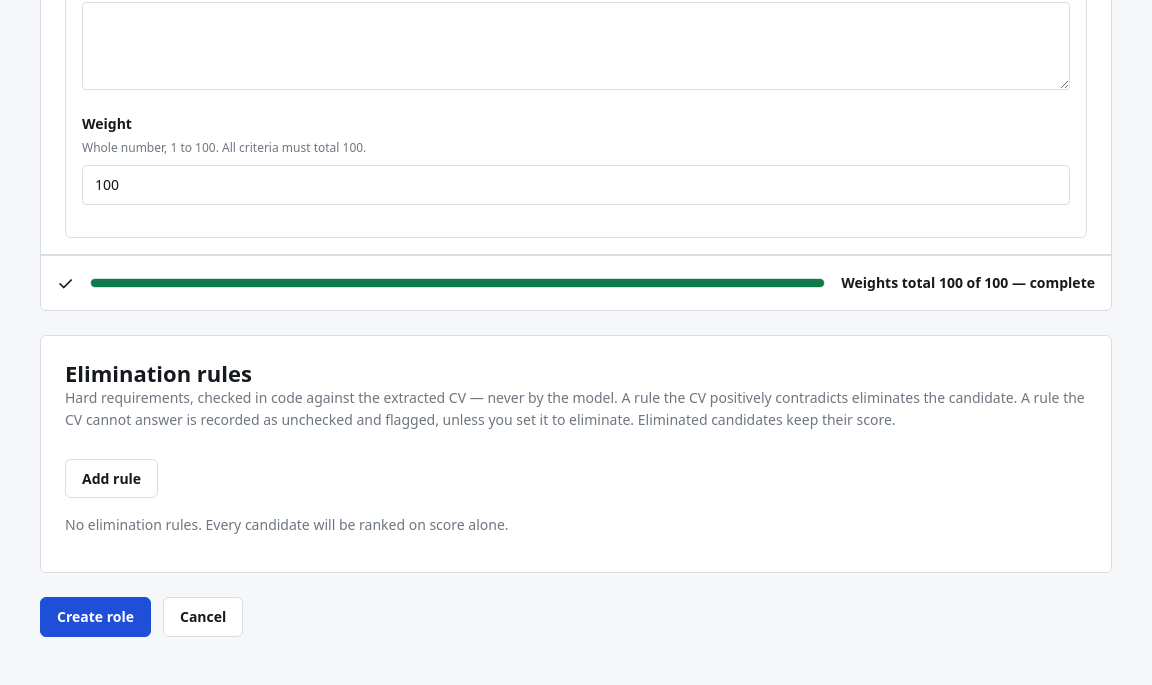
Scenario: /roles/new › every rule type the server publishes is offered, with its own fields
(page scrolled)
Step 1. Click the button "Add rule" → (112, 478), box [65,458,158,498]
(page scrolled)
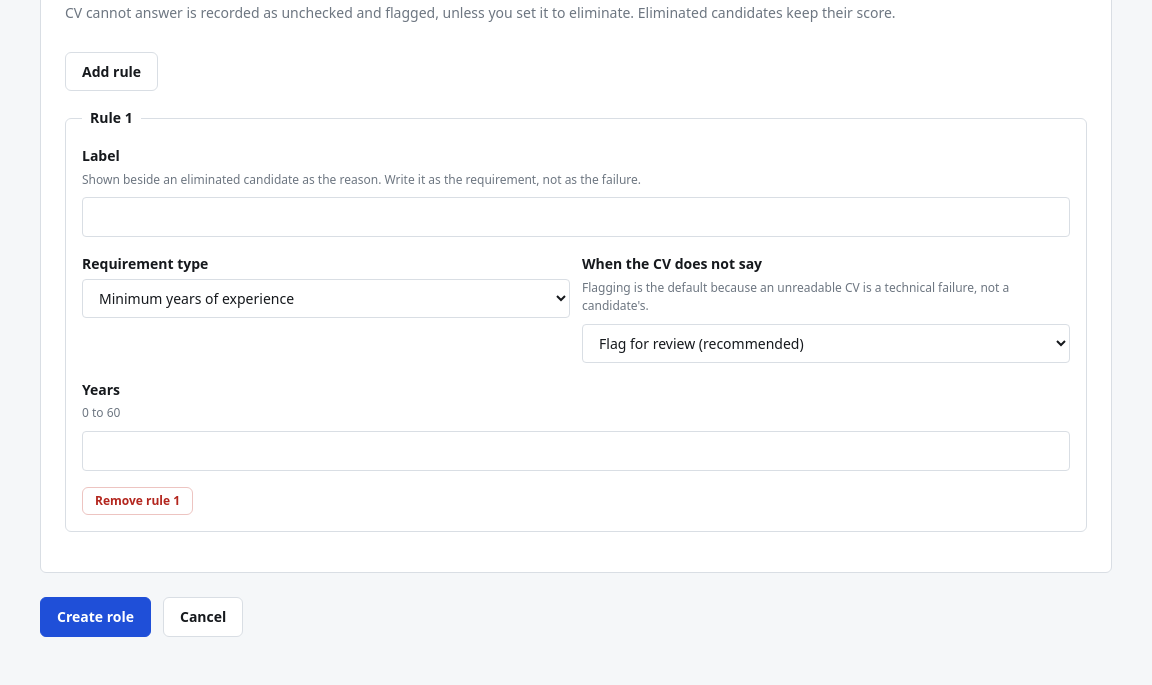
Expected: the number field labelled "Years" is shown, [82,431,1070,471]
Expected: the text "0 to 60" is shown, [82,404,120,421]
